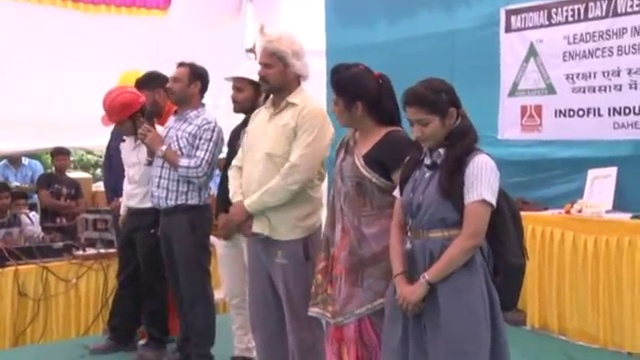helmet: (102, 87, 145, 127), (224, 55, 261, 87)
helmet_off: (324, 62, 397, 146), (398, 72, 467, 156), (256, 35, 312, 96), (163, 57, 209, 122), (134, 70, 176, 126), (50, 147, 73, 174), (10, 190, 30, 216), (0, 181, 12, 221)
helmet_on: (221, 55, 262, 119), (100, 86, 146, 140)
person: (384, 72, 528, 359), (216, 35, 320, 356), (320, 62, 411, 360), (138, 58, 223, 359), (86, 85, 174, 359), (215, 54, 262, 350), (37, 147, 84, 248), (0, 180, 62, 244), (0, 149, 47, 208)
